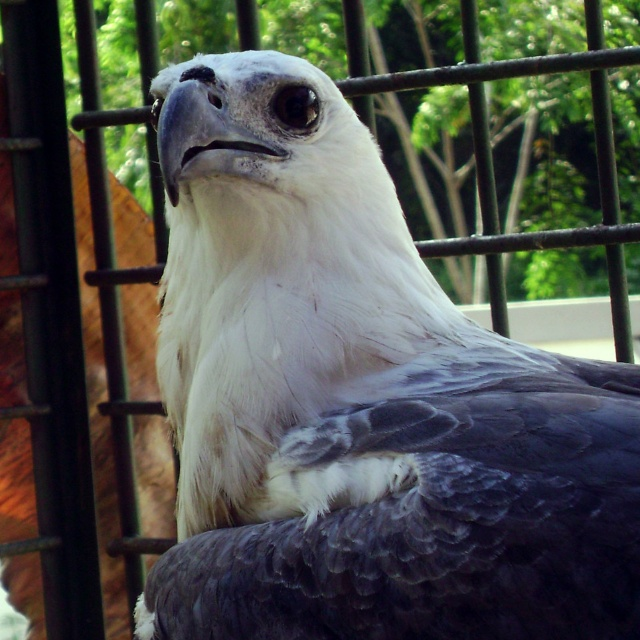Eagle: (132, 52, 640, 640)
